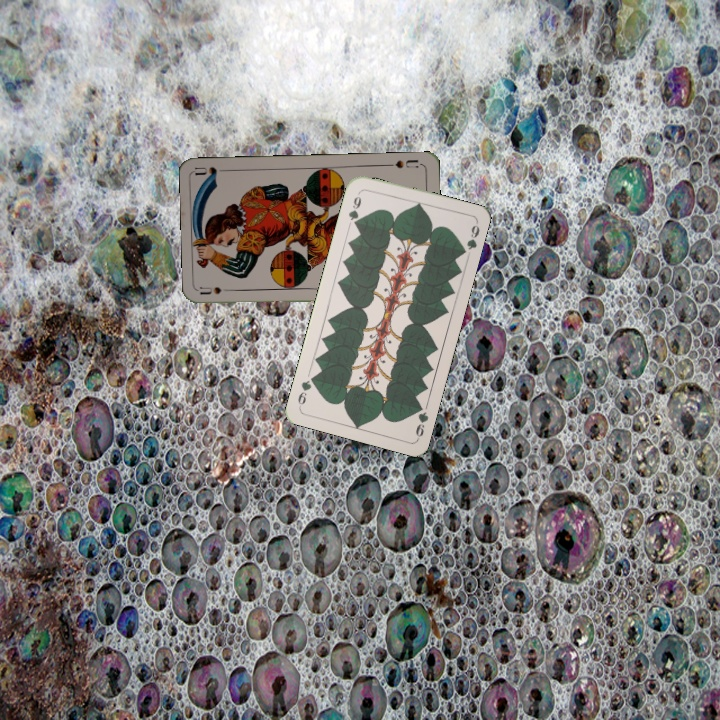G9: (344, 187, 364, 229), (411, 399, 431, 441)
SU: (382, 156, 421, 171), (197, 283, 238, 297)
